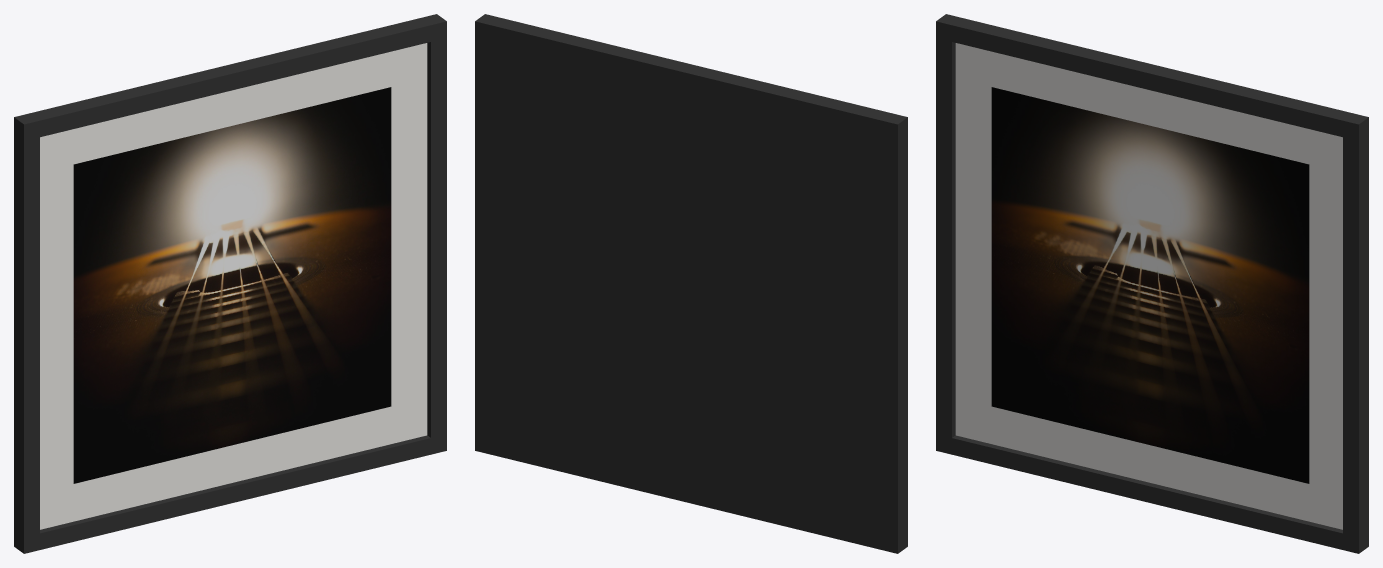
Rendered from strangarna-40.gltf.
3 views of the same model, side by side, from view 1: azimuth 30°, elevation 25°; view 2: azimuth 150°, elevation 25°; view 3: azimuth 330°, elevation 25° (orthographic).
Parts seen in each view (by area): view 1: tavla; view 2: tavla; view 3: tavla.
Boxes of the visible parts, x1,y1,x2,y2 form: tavla: [14, 14, 446, 553]; tavla: [475, 14, 907, 553]; tavla: [936, 14, 1368, 553].
Bounding box in the file's own units: 0.5322 × 0.5164 × 0.022.
Materials: 3 (1 with a texture image).
